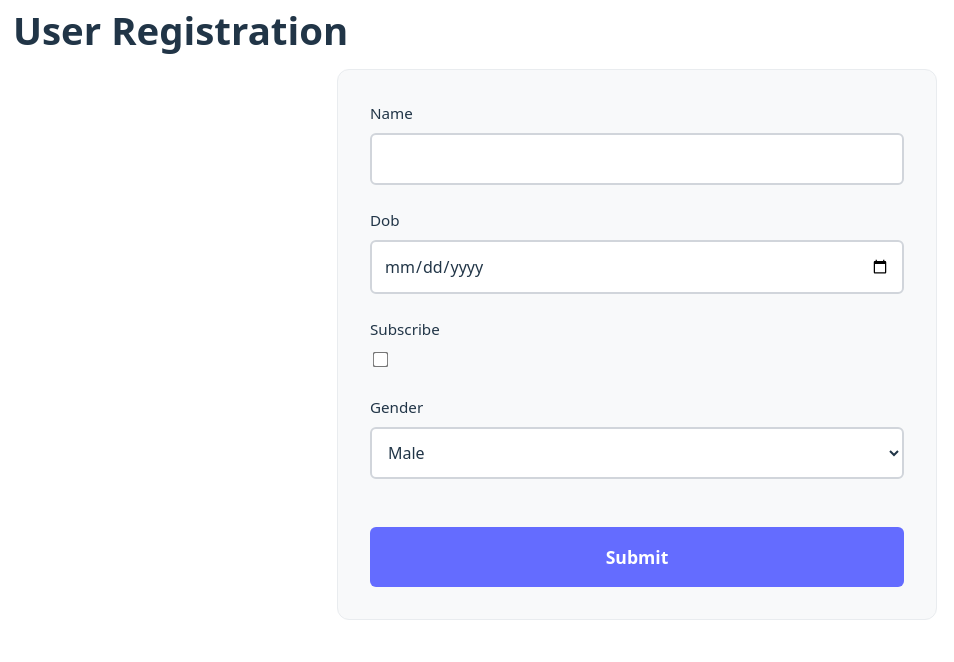
it: DynamicForm › validates required fields on submit
Click the button "Submit" at point(637, 557), box [370,527,904,587]
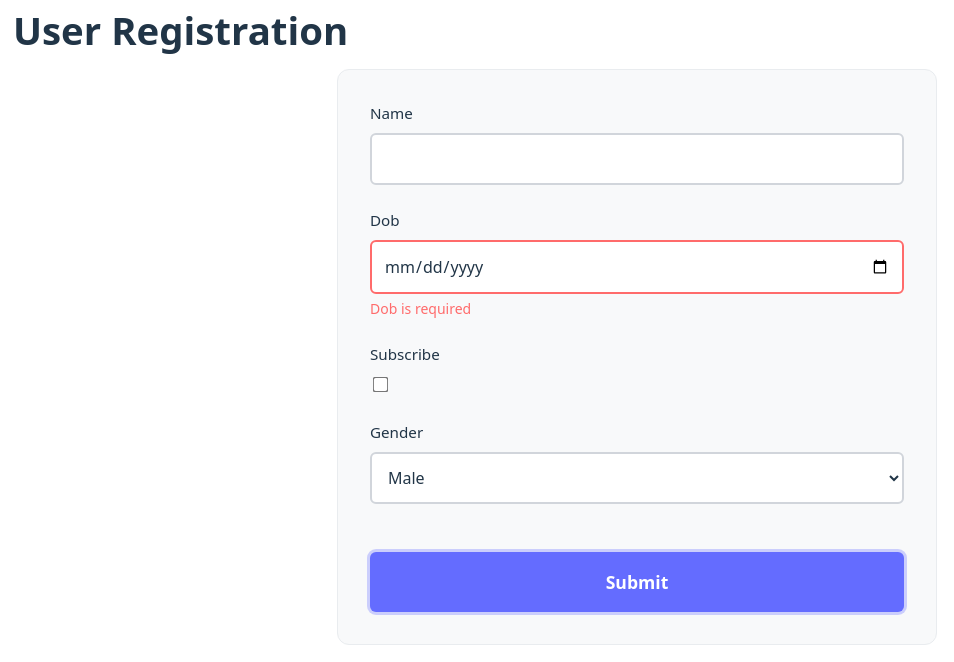
Check: the text "Dob is required" is shown, box [370,299,471,318]
